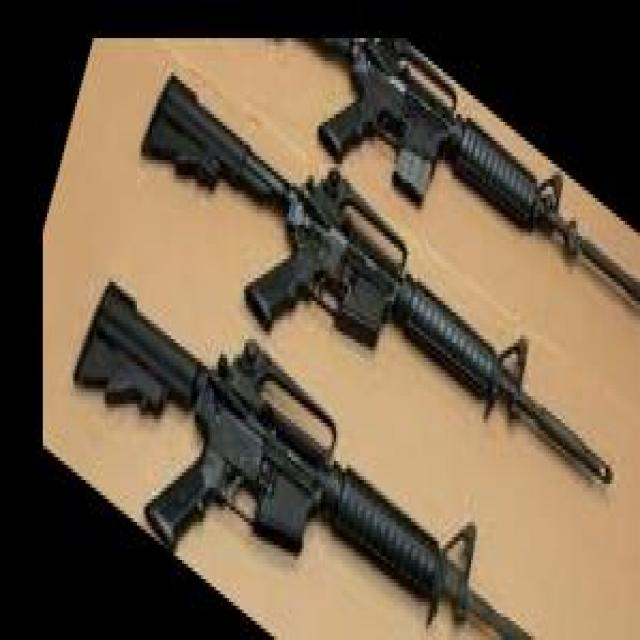heavy-weapon: (141, 74, 614, 486), (71, 278, 532, 640), (294, 36, 640, 312)
